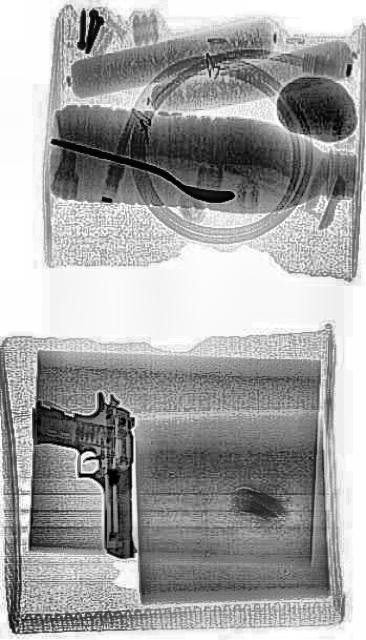Gun: (30, 389, 136, 557)
